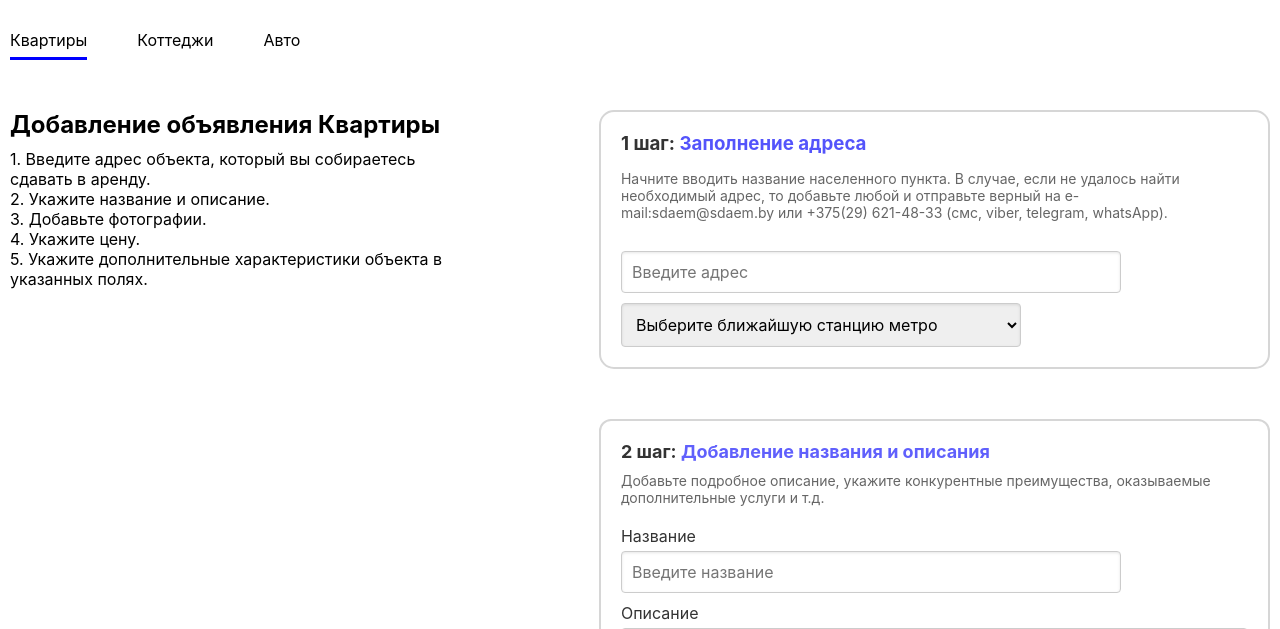
addListing page › changes category when clicking on category item
Click the list item "Коттеджи" at [175, 45], box [137,30,214,60]
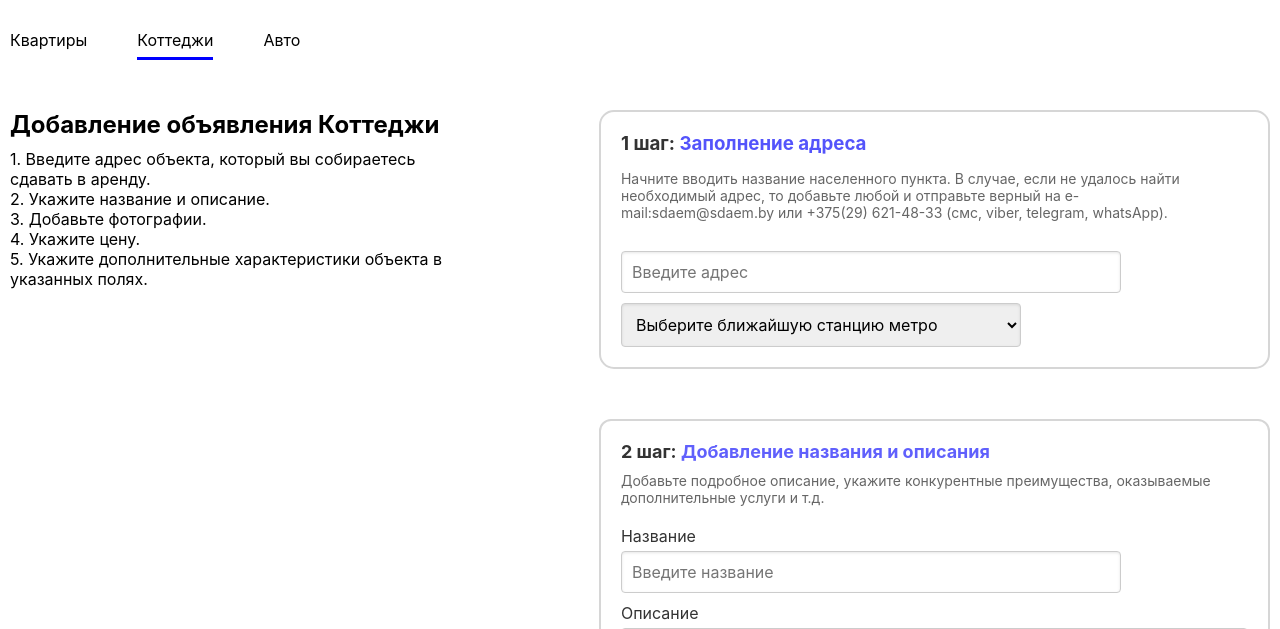
Now the heading "Добавление объявления Коттеджи" is shown, box [10,110,449,139]
Click the list item "Авто" at [282, 45], box [264,30,300,60]
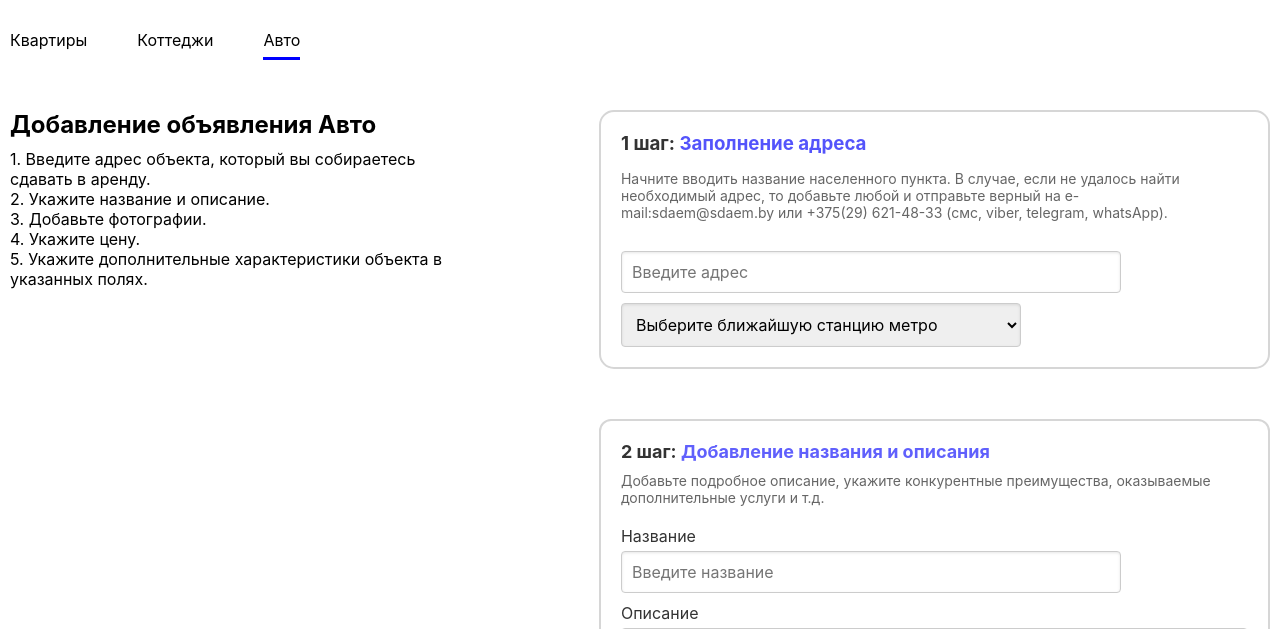
Now the heading "Добавление объявления Авто" is shown, box [10,110,376,139]
